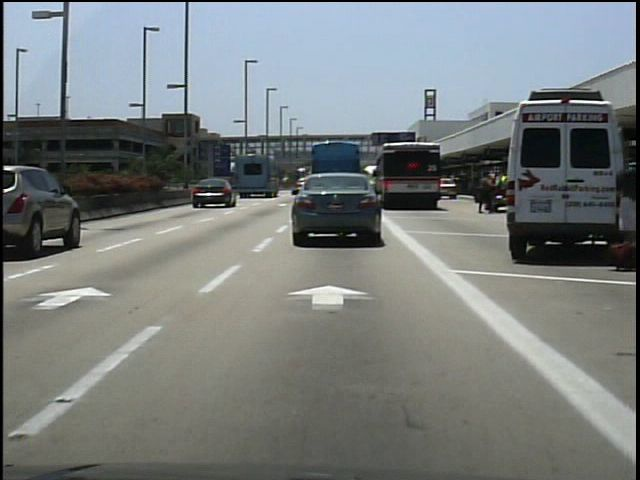person: (606, 144, 637, 272), (477, 170, 497, 220)
